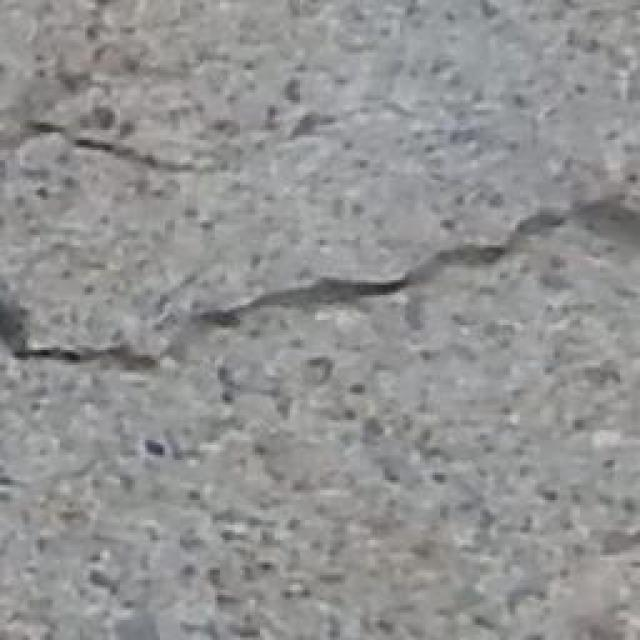concrete-crack: (0, 175, 640, 378), (22, 114, 218, 182)
